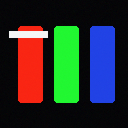3 line_h: (9, 31, 47, 37)
